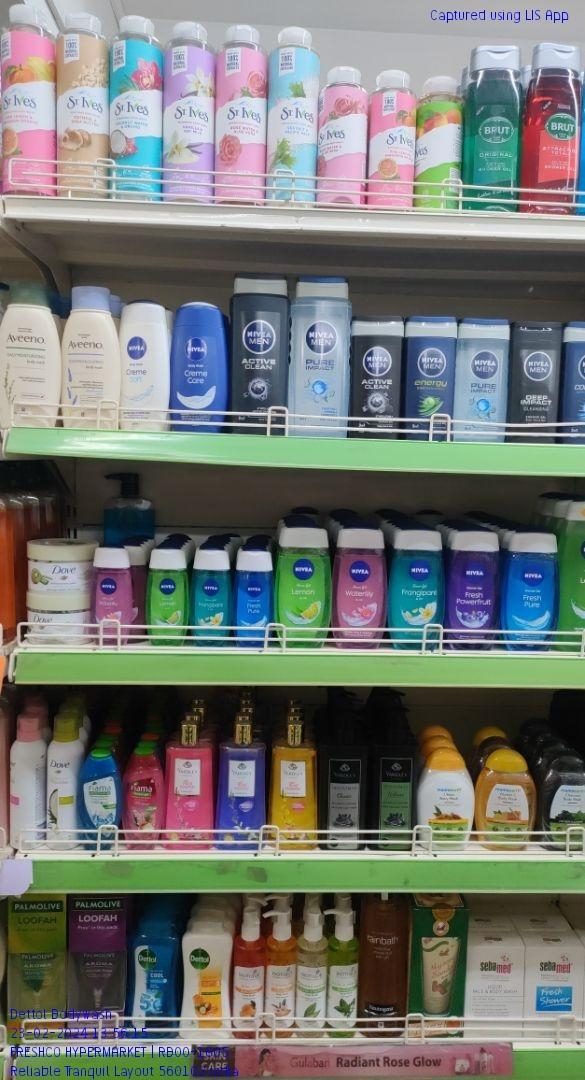Dettol_Bodywash_Cool: (129, 917, 179, 1039)
Nivea_Creme_Care_Body_Wash_250ML: (173, 298, 225, 436)
Nivea_Creme_Soft_Body_Wash_250ML: (120, 302, 171, 434)
Nivea_Shower_Gel_Frangipani_and_Oil_250ML: (391, 525, 446, 655)
Nivea_Shower_Gel_Fresh_Powerfruit_250ML: (448, 531, 500, 652)
Nivea_Shower_Gel_Lemon_and_Oil_250ML: (274, 527, 328, 648)
Nivea_Shower_Gel_Waterlily_and_Oil_250ML: (333, 527, 382, 648)
